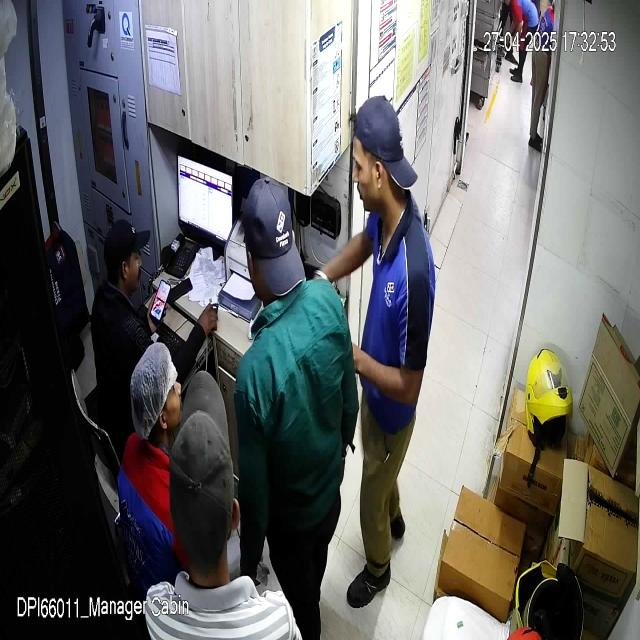helmet: (523, 349, 574, 447)
no_helmet: (167, 367, 240, 590), (352, 95, 417, 242), (242, 174, 306, 306), (131, 343, 182, 449), (104, 219, 150, 300)
